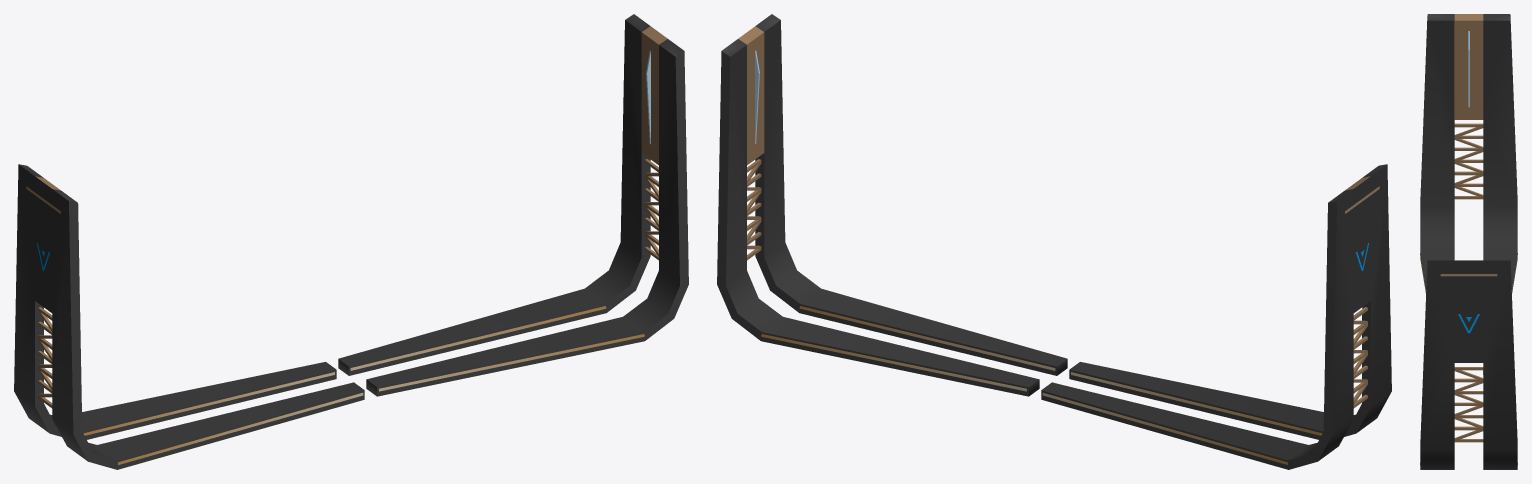
The model's file is W_O_Monoraildock_001_L3.fbx.
3 views of the same model, side by side, from view 1: azimuth 30°, elevation 25°; view 2: azimuth 150°, elevation 25°; view 3: azimuth 270°, elevation 25° (orthographic). The views are drawn at different scales.
Visible parts, largest first — view 1: W_O_Monoraildock_001_L3; view 2: W_O_Monoraildock_001_L3; view 3: W_O_Monoraildock_001_L3.
Boxes of the visible parts, <box> form: W_O_Monoraildock_001_L3: <box>14,14,688,469</box>; W_O_Monoraildock_001_L3: <box>717,14,1391,469</box>; W_O_Monoraildock_001_L3: <box>1420,14,1517,469</box>.
Bounding box in the file's own units: 10.2 × 4.37 × 1.71.
